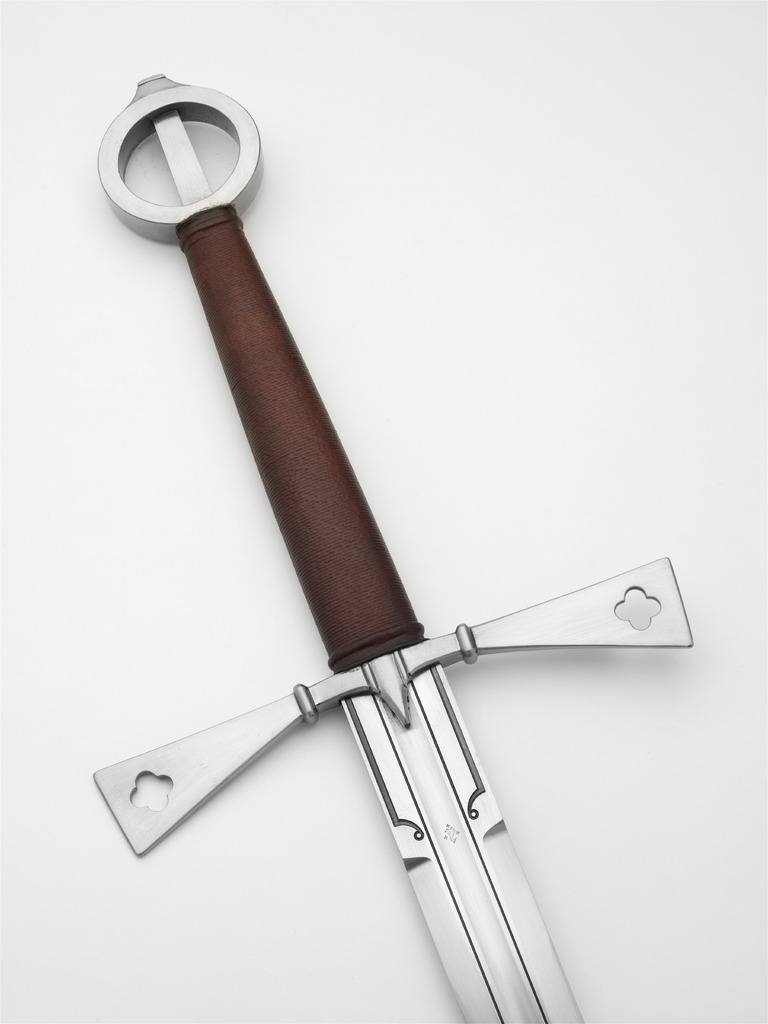sword: (65, 82, 706, 1024)
